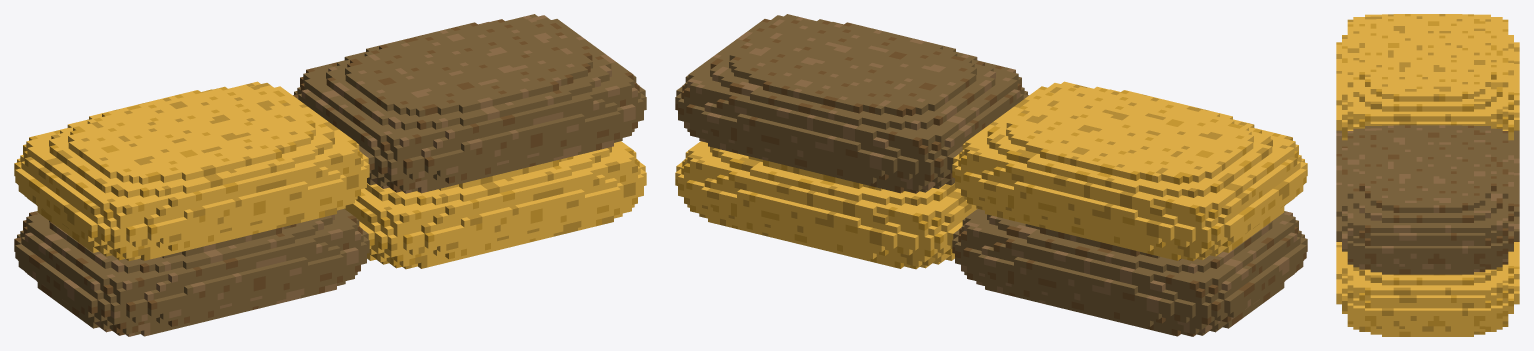
File: sandboxes-3.obj
3 renders of one model, left to right at view 1: azimuth 30°, elevation 25°; view 2: azimuth 150°, elevation 25°; view 3: azimuth 270°, elevation 25°, orthographic. The views are drawn at different scales.
Bounding box in the file's own units: 9.2 × 2.4 × 3.2.
1 material, 1 textured.
